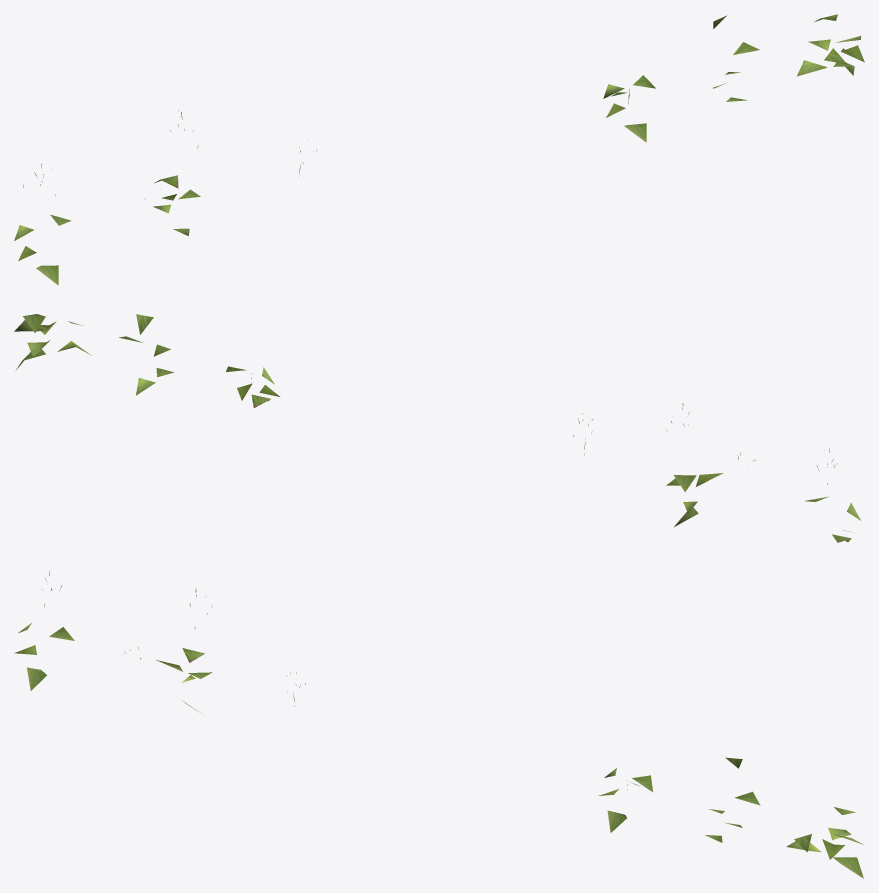
Rendered from shrub_01.glb.
3 renders of one model, top to bottom at view 1: azimuth 30°, elevation 25°; view 2: azimuth 150°, elevation 25°; view 3: azimuth 330°, elevation 25°, orthographic.
Visible parts, largest first — view 1: shrub_01_a; view 2: shrub_01_a; view 3: shrub_01_a.
Boxes of the visible parts, x1,y1,x2,y2 form: shrub_01_a: (14,14,864,285); shrub_01_a: (14,314,860,542); shrub_01_a: (14,571,863,878).
Bounding box in the file's own units: 2.57 × 0.38 × 0.2057.
1 material, 1 textured.
